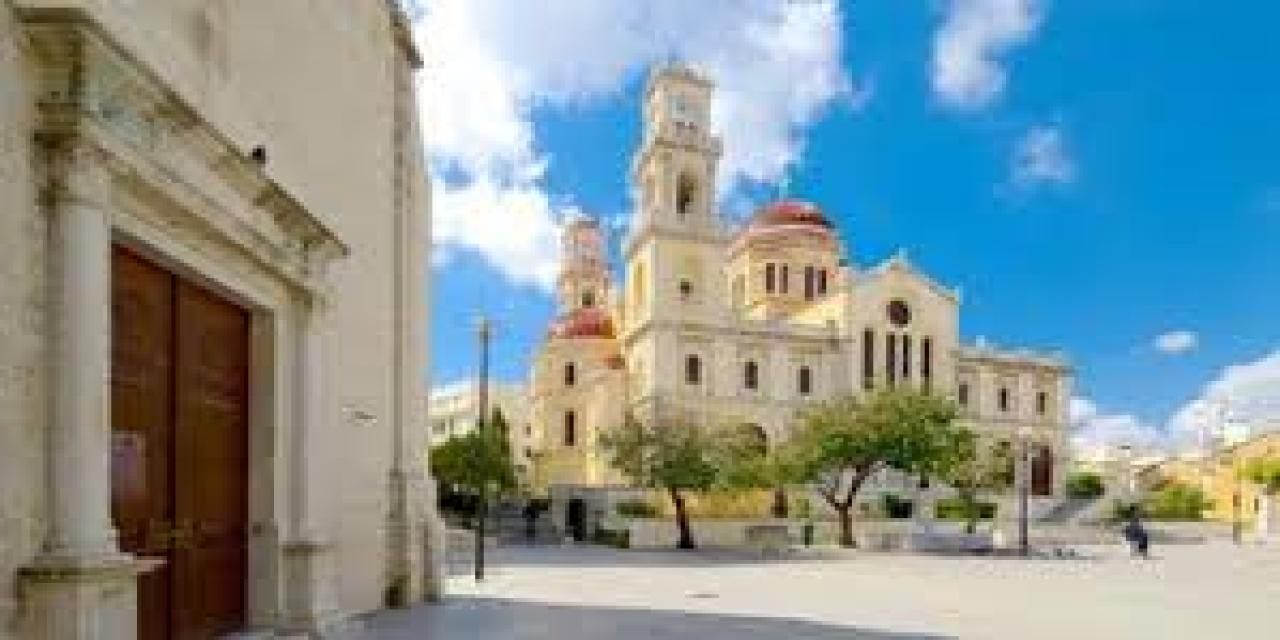Agios Minas: (525, 73, 1071, 517)
